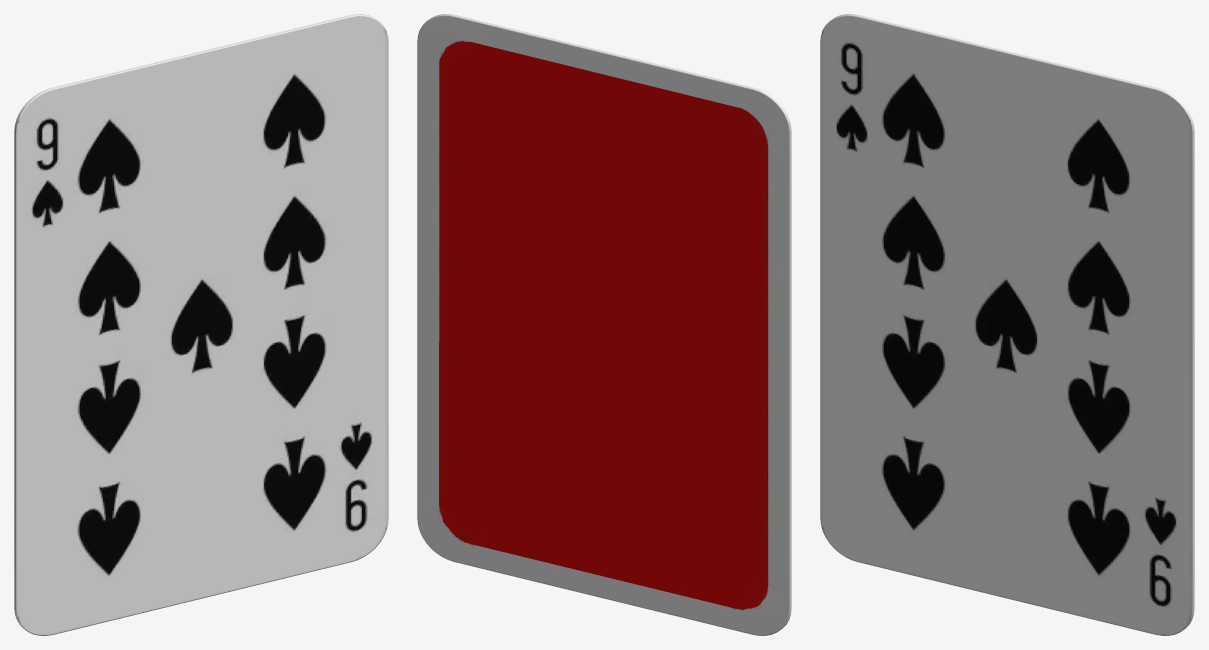
The model's file is spades_9.glb.
The picture shows the model from 3 angles, left to right: view 1: azimuth 30°, elevation 25°; view 2: azimuth 150°, elevation 25°; view 3: azimuth 330°, elevation 25°; orthographic projection.
Parts seen in each view (by area): view 1: defaultMaterial.003; view 2: defaultMaterial.003; view 3: defaultMaterial.003.
Part boxes in pixels (bbox=[...]): defaultMaterial.003: bbox=[14, 14, 388, 635]; defaultMaterial.003: bbox=[417, 14, 791, 635]; defaultMaterial.003: bbox=[820, 14, 1194, 635].
Bounding box in the file's own units: 0.1408 × 0.1972 × 0.00111.
1 material, 1 textured.
